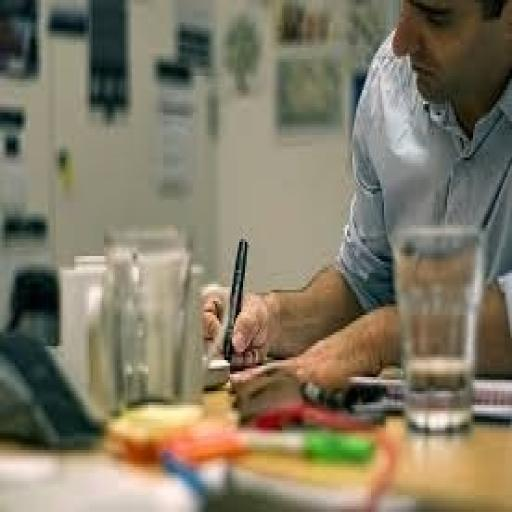sitting: (200, 0, 510, 399)
